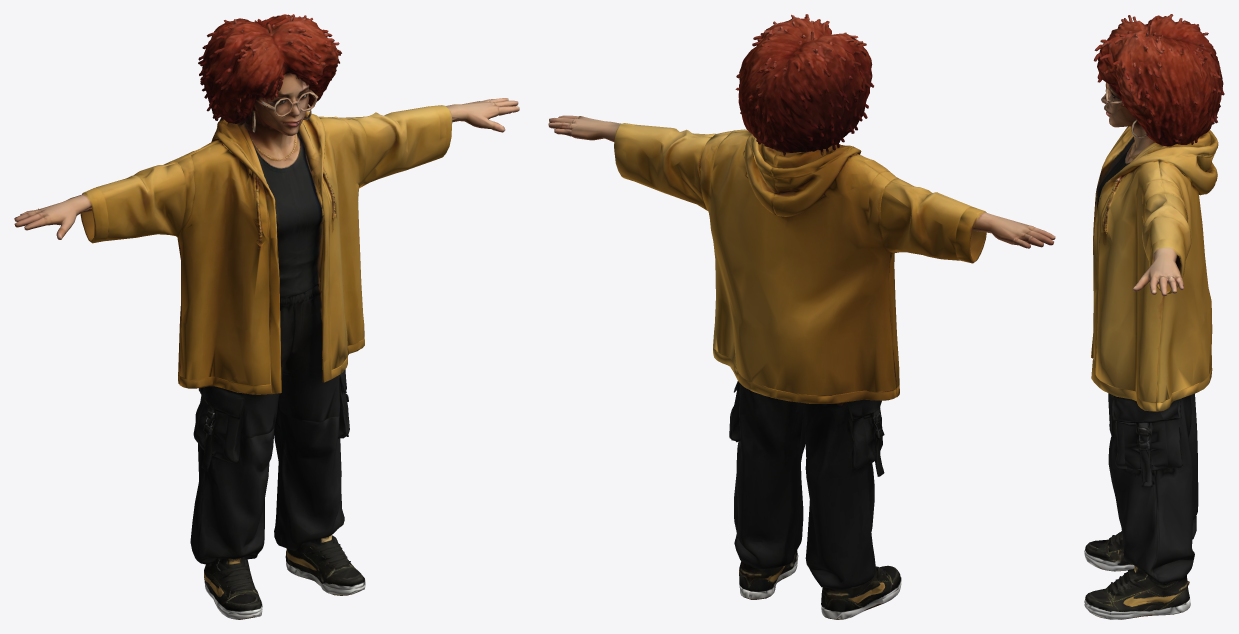
File: rubi_web.glb
3 renders of one model, left to right at view 1: azimuth 30°, elevation 25°; view 2: azimuth 150°, elevation 25°; view 3: azimuth 270°, elevation 25°, orthographic.
Visible parts, largest first — view 1: tripo_node_0308285a-9cfc-461b-9217-c559d432a941; view 2: tripo_node_0308285a-9cfc-461b-9217-c559d432a941; view 3: tripo_node_0308285a-9cfc-461b-9217-c559d432a941.
Boxes of the visible parts, <box> form: tripo_node_0308285a-9cfc-461b-9217-c559d432a941: <box>14,14,519,619</box>; tripo_node_0308285a-9cfc-461b-9217-c559d432a941: <box>548,14,1055,619</box>; tripo_node_0308285a-9cfc-461b-9217-c559d432a941: <box>1084,14,1224,619</box>.
Size of the model in its own units: 0.9091 by 0.9819 by 0.221.
Materials: 1 (1 with a texture image).
